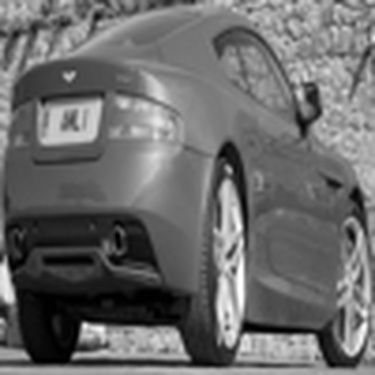car: (6, 3, 367, 371)
